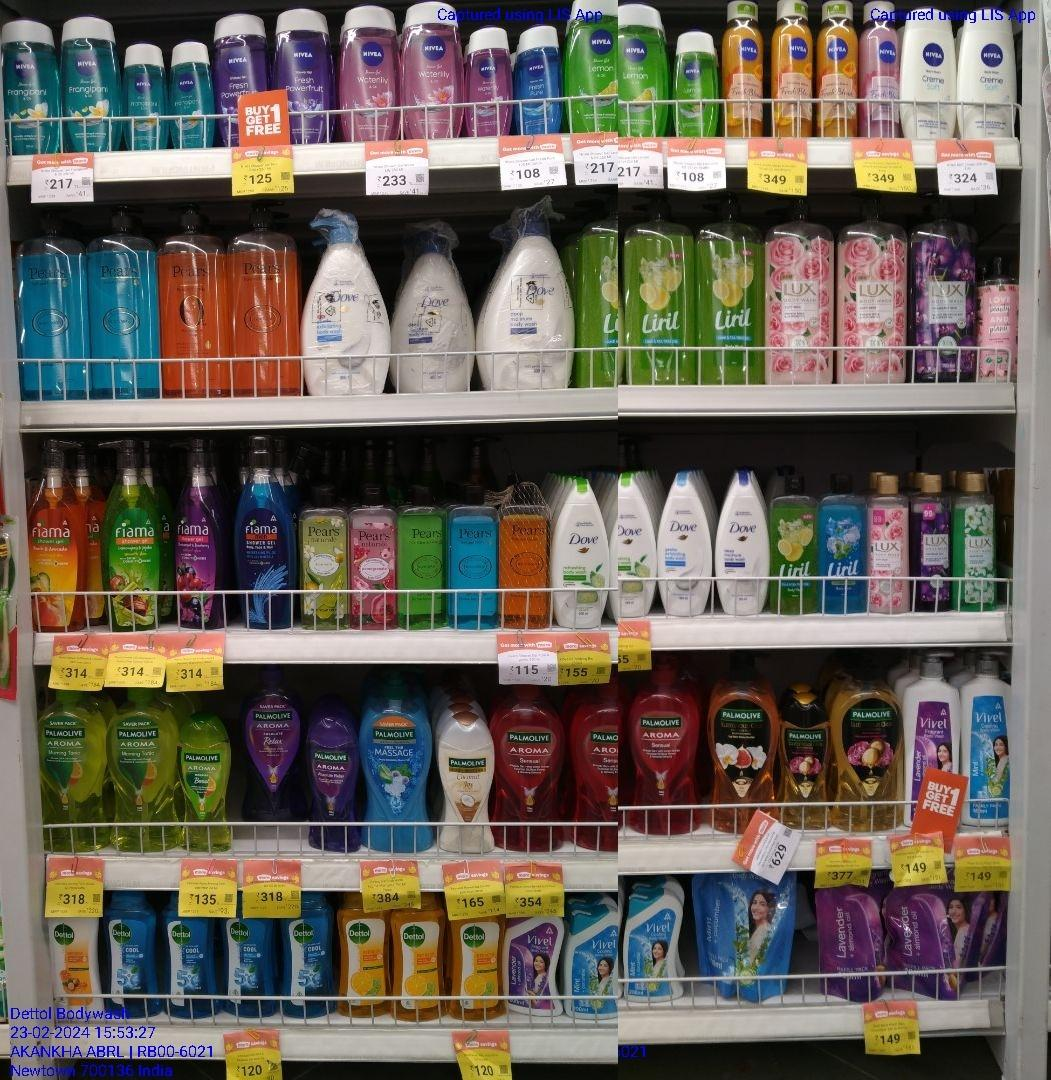Dettol_Bodywash_Cool: (106, 896, 162, 1019), (163, 909, 219, 1018), (281, 915, 335, 1018), (223, 918, 278, 1016)
Dettol_Bodywash_Refresh: (391, 910, 445, 1022), (447, 919, 505, 1020), (339, 912, 390, 1018)
Dettol_Nourish_Body_Wash_250ML: (45, 919, 104, 1020)
Dove_Deep_Moisture_Body_Wash_250ML: (715, 478, 768, 614)
Dove_Gentle_Exfoliating_Body_Wash_250ML: (656, 480, 712, 615)
Dove_Refreshing_Body_Wash_250ML: (551, 484, 608, 628)
Liril_Cooling_Mint_Body_Wash_250ML: (822, 473, 868, 615)
Liril_Lime_and_Tea_Tree_Oil_Body_Wash_250ML: (770, 478, 820, 612)
Lux_Black_Orchid_Scent_and_Juniper_Oil_Body_Wash_245ML: (911, 475, 953, 612)
Lux_Body_Wash_Skin_Detox_Freesia_Scent_and_Alove_Vera_245ML: (955, 473, 995, 613)
Nivea_Creme_Soft_Body_Wash_250ML: (961, 8, 1018, 139), (903, 7, 955, 138)
Nivea_Shower_Gel_Frangipani_and_Oil_250ML: (1, 21, 59, 156), (60, 13, 116, 151), (170, 42, 215, 149), (121, 46, 166, 149)
Nivea_Shower_Gel_Lemon_and_Oil_250ML: (618, 5, 666, 135), (671, 34, 720, 135)
Nivea_Shower_Gel_Waterlily_and_Oil_250ML: (337, 6, 399, 140), (403, 3, 463, 138), (465, 30, 512, 135)
Palmolive_Aroma_Morning_Tonic_Shower_Gel_250ML: (178, 721, 232, 851)
Palmolive_Aroma_Relax_250ML: (304, 722, 360, 852)
Palmolive_Coconut_Joy_Exfoliating_Body_Wash_250ML: (438, 721, 497, 853)
Palmolive_Luminous_Oils_Invigorating_Macadamia_Oil_With_Peony_250ML: (780, 696, 834, 829)
Pears_Naturale_Aloe_Vera_Body_Wash_250ML: (298, 491, 348, 630)
Pears_Pure_Glycerin_and_Lemon_Flower_Extracts_Body_Wash_250ML: (398, 492, 447, 631)
Pears_Pure_Glycerin_and_Mint_Extracts_Body_Wash_250ML: (449, 488, 500, 632)
